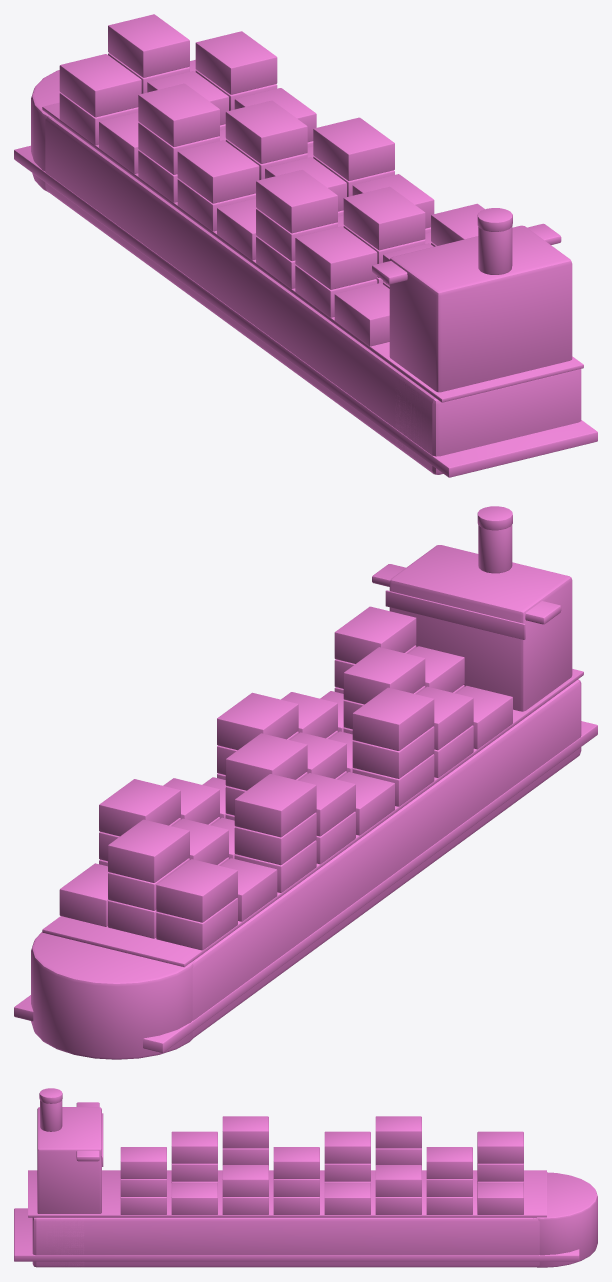
The model's file is Docks_CargoShip.fbx.
The picture shows the model from 3 angles, top to bottom: view 1: azimuth 30°, elevation 25°; view 2: azimuth 150°, elevation 25°; view 3: azimuth 270°, elevation 25°; orthographic projection. The views are drawn at different scales.
Visible parts, largest first — view 1: Hull, Cargo; view 2: Hull, Cargo; view 3: Hull, Cargo.
Part boxes in pixels (box(x1,y1,x2,y2)): Hull: box(14, 70, 597, 477); Cargo: box(59, 14, 484, 346); Hull: box(14, 506, 597, 1059); Cargo: box(59, 606, 512, 950); Hull: box(14, 1088, 597, 1267); Cargo: box(120, 1116, 523, 1214).
Size of the model in its own units: 28 by 36.25 by 126.
Materials: 1 (1 with a texture image).
